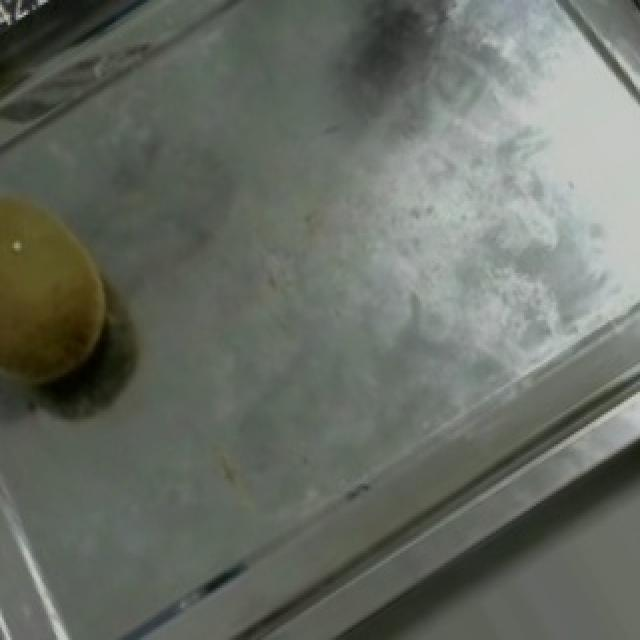Fruit: (0, 148, 150, 436)
